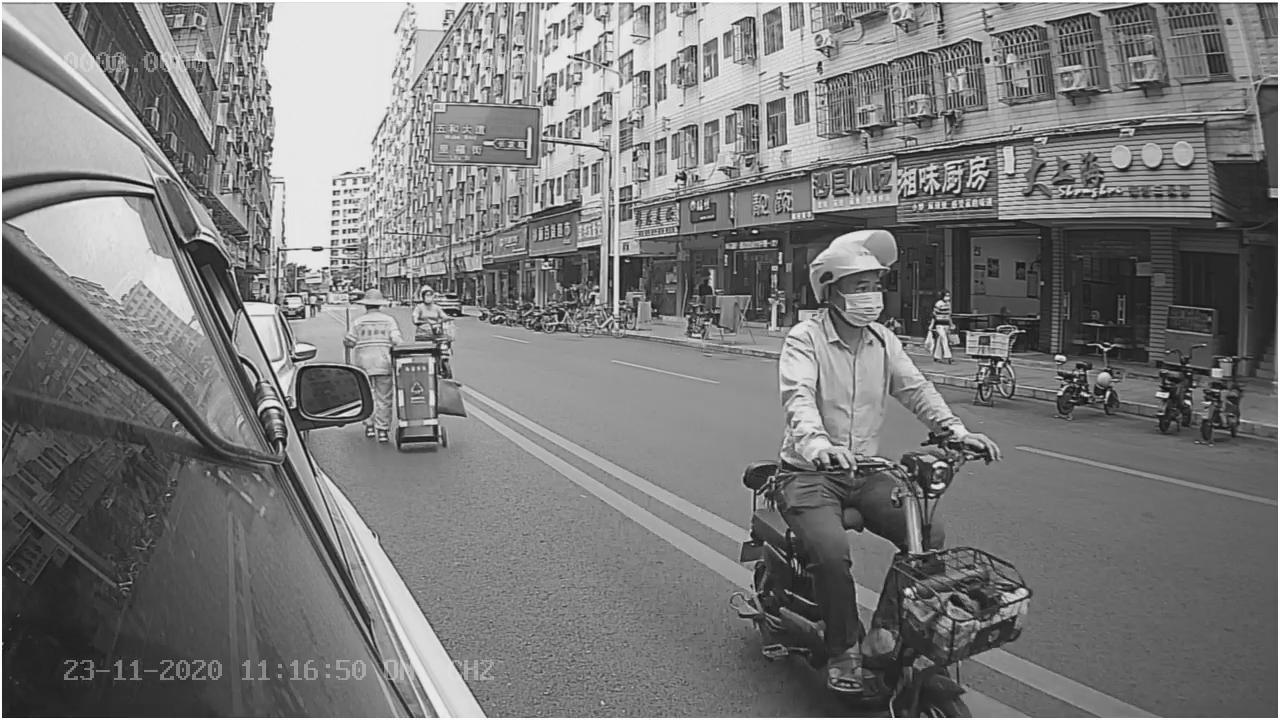person: (767, 221, 1002, 455)
